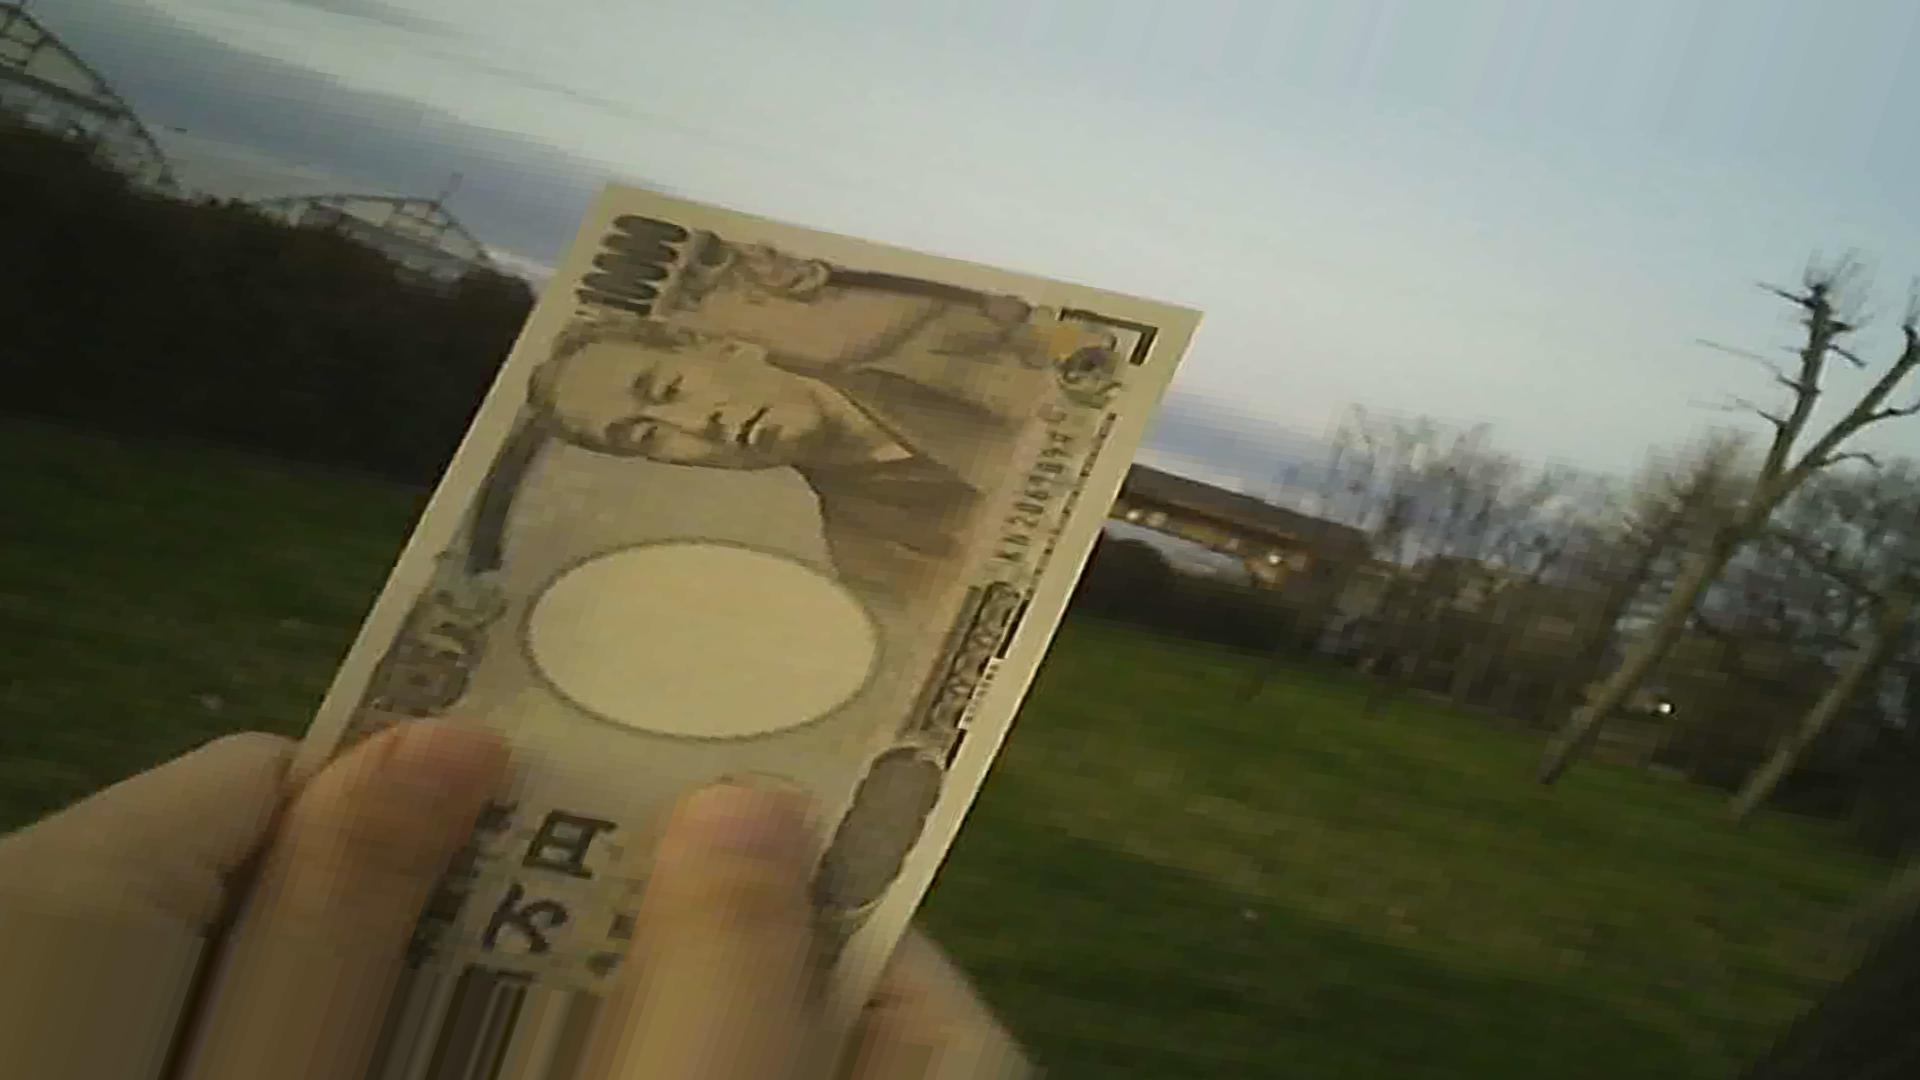10,000 Yen: (272, 153, 1226, 1075)
